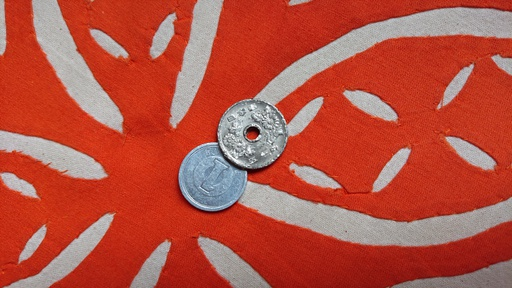1yen: (178, 142, 246, 211)
50yen: (217, 99, 288, 171)
